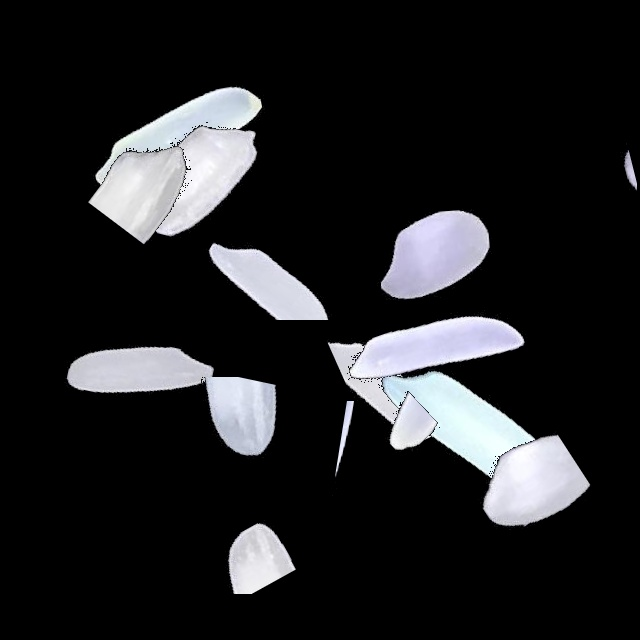Broken: (376, 417, 626, 585), (298, 290, 548, 445), (83, 36, 235, 286), (172, 171, 422, 320), (106, 377, 356, 506), (111, 477, 361, 594), (267, 401, 517, 509), (255, 381, 505, 464), (555, 63, 637, 313)
Full: (51, 12, 301, 262), (349, 307, 599, 557), (310, 128, 560, 378), (307, 221, 557, 471), (75, 54, 325, 304), (14, 245, 264, 495)
